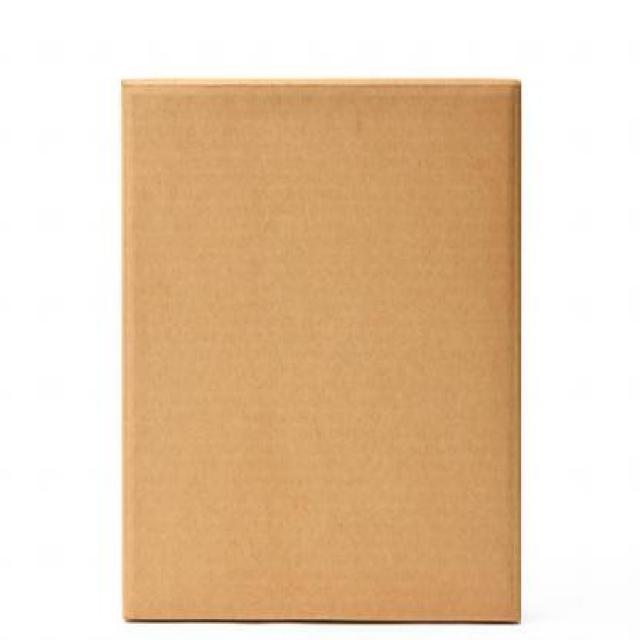box: (95, 40, 562, 640)
